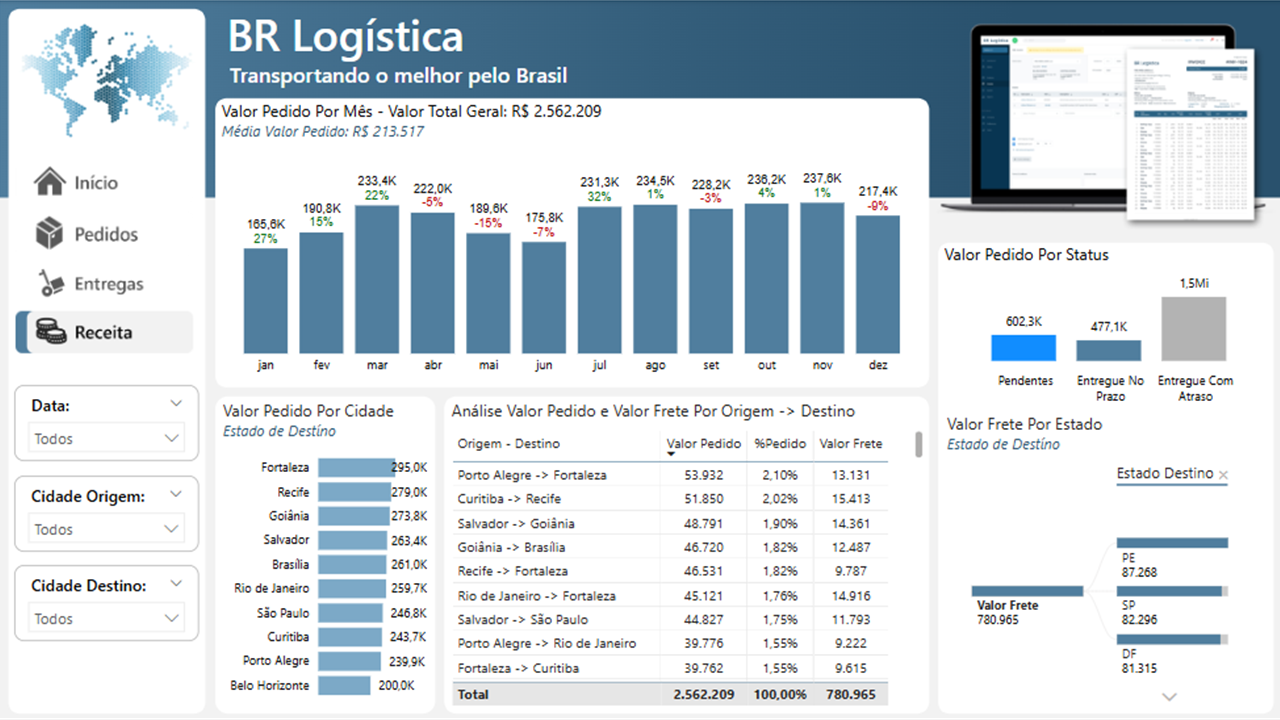

This screenshot's page, from the dashboard's own definition file:
{"tool":"powerbi","page":{"name":"Receita","canvas":[1280,720],"ordinal":3},"visuals":[{"type":"clusteredColumnChart","title":"Valor Pedido Por Status","fields":{"Category":["TabAux_TipoPedido.Tipo_Pedido"],"Y":["Medidas_DAX.Vlr Tipo Pedido"]},"box":[937.4,241.9,328.3,168.5],"z":0},{"type":"clusteredBarChart","title":"Valor Pedido Por Cidade","fields":{"Category":["Dim_Cidade_Destino.Nome Cidade"],"Y":["Medidas_DAX.Vlr Pedidos Total Personalizado"]},"box":[218.9,397.4,213.1,309.6],"z":1000},{"type":"decompositionTreeVisual","title":"Valor Frete Por Estado","fields":{"ExplainBy":["Dim_Cidade_Destino.Estado"],"Analyze":["Medidas_DAX.Vlr Frete Total"]},"box":[940.3,410.4,325.4,298.1],"z":2000},{"type":"actionButton","box":[17.1,160,177.1,44.3],"z":3000},{"type":"actionButton","box":[17.3,210.7,177.1,44.6],"z":4000},{"type":"actionButton","box":[17.3,260.2,177.1,44.6],"z":5000},{"type":"actionButton","box":[17.3,309.6,177.1,44.6],"z":6000},{"type":"slicer","fields":{"Values":["Dim_Calendario.Ano","Dim_Calendario.Mes_Completo"]},"box":[15.8,383,184.3,76.3],"z":7000},{"type":"slicer","fields":{"Values":["Dim_Cidade_Origem.Nome Cidade"]},"box":[15.8,473.8,184,76.3],"z":8000},{"type":"slicer","fields":{"Values":["Dim_Cidade_Destino.Nome Cidade"]},"box":[15.8,563,184.3,76.3],"z":9000},{"type":"tableEx","title":"Análise Valor Pedido e Valor Frete Por Origem -> Destino","fields":{"Values":["Fato_Logistica.Origem - Destino","Medidas_DAX.Vlr Pedidos Total","Sum(Fato_Logistica.Valor Pedido)","Medidas_DAX.Vlr Frete Total"]},"box":[446.4,397.4,479.5,309.6],"z":10000},{"type":"clusteredColumnChart","fields":{"Category":["Dim_Calendario_Aux.Mes_Abrev"],"Y":["Medidas_DAX.Vlr Gráfico Pedido"]},"box":[217.1,100,708.6,282.9],"z":11000}]}

Visuals, with their boxes in screenshot pixels (x1, y1, x2, y2), scaled from the page's 1280x720 canvas onto the 1280x720 screenshot:
"Valor Pedido Por Status" clusteredColumnChart: {"x1": 937, "y1": 242, "x2": 1266, "y2": 410}
"Valor Pedido Por Cidade" clusteredBarChart: {"x1": 219, "y1": 397, "x2": 432, "y2": 707}
"Valor Frete Por Estado" decompositionTreeVisual: {"x1": 940, "y1": 410, "x2": 1266, "y2": 708}
actionButton: {"x1": 17, "y1": 160, "x2": 194, "y2": 204}
actionButton: {"x1": 17, "y1": 211, "x2": 194, "y2": 255}
actionButton: {"x1": 17, "y1": 260, "x2": 194, "y2": 305}
actionButton: {"x1": 17, "y1": 310, "x2": 194, "y2": 354}
slicer - Dim_Calendario.Ano x Dim_Calendario.Mes_Completo: {"x1": 16, "y1": 383, "x2": 200, "y2": 459}
slicer - Dim_Cidade_Origem.Nome Cidade: {"x1": 16, "y1": 474, "x2": 200, "y2": 550}
slicer - Dim_Cidade_Destino.Nome Cidade: {"x1": 16, "y1": 563, "x2": 200, "y2": 639}
"Análise Valor Pedido e Valor Frete Por Origem -> Destino" tableEx: {"x1": 446, "y1": 397, "x2": 926, "y2": 707}
clusteredColumnChart - Dim_Calendario_Aux.Mes_Abrev x Medidas_DAX.Vlr Gráfico Pedido: {"x1": 217, "y1": 100, "x2": 926, "y2": 383}
